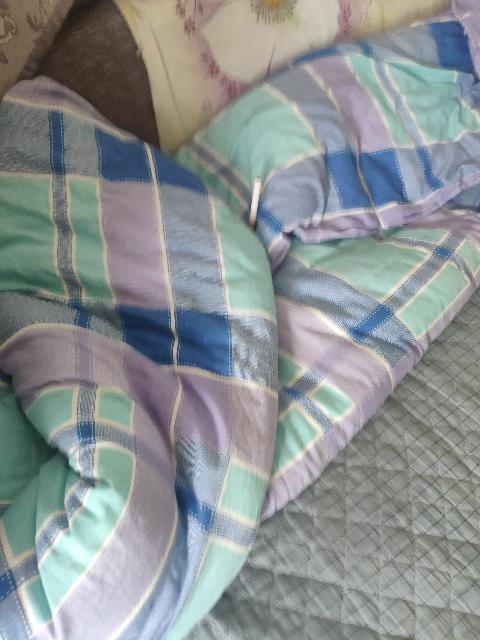Smoking: (246, 178, 262, 235)
